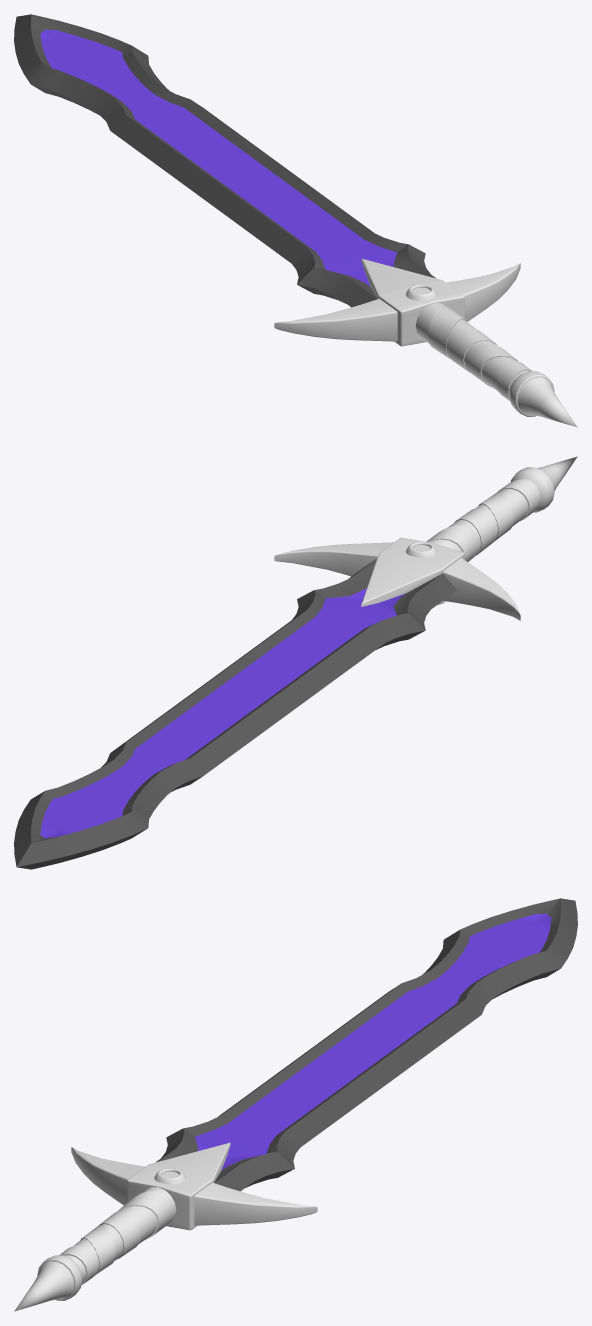
Rendered from _word.fbx.
3 views of the same model, one above another, from view 1: azimuth 30°, elevation 25°; view 2: azimuth 150°, elevation 25°; view 3: azimuth 330°, elevation 25° (orthographic).
Visible parts, largest first — view 1: Blade, Grip; view 2: Blade, Grip; view 3: Blade, Grip.
Boxes of the visible parts, x1,y1,x2,y2 form: Blade: (14,14,435,307); Grip: (274,258,577,427); Blade: (14,559,456,869); Grip: (274,456,577,620); Blade: (156,898,577,1191); Grip: (14,1142,317,1311).
Bounding box in the file's own units: 4.89 × 0.9087 × 19.29.
